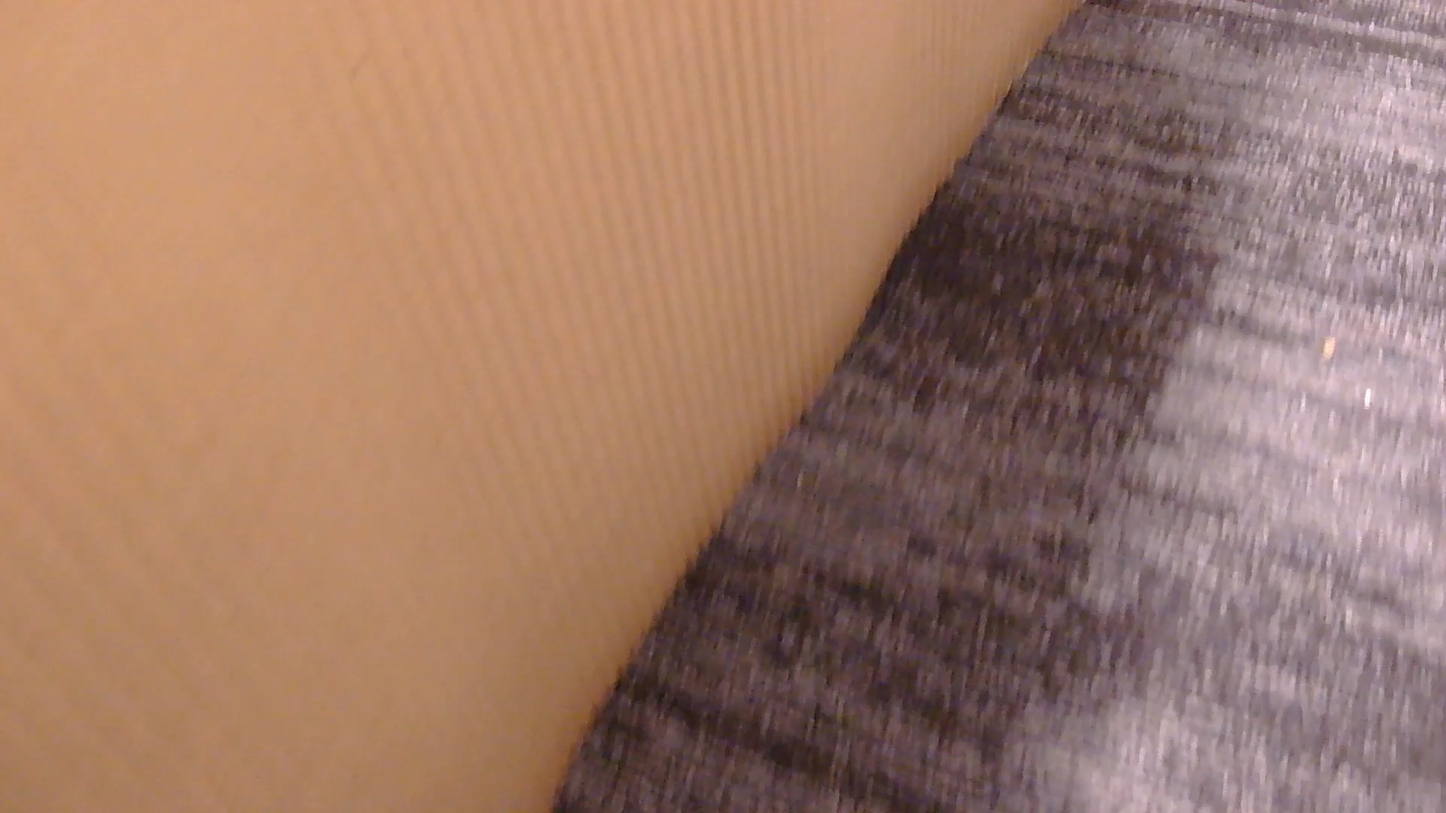Ramp: (0, 0, 1069, 812)
